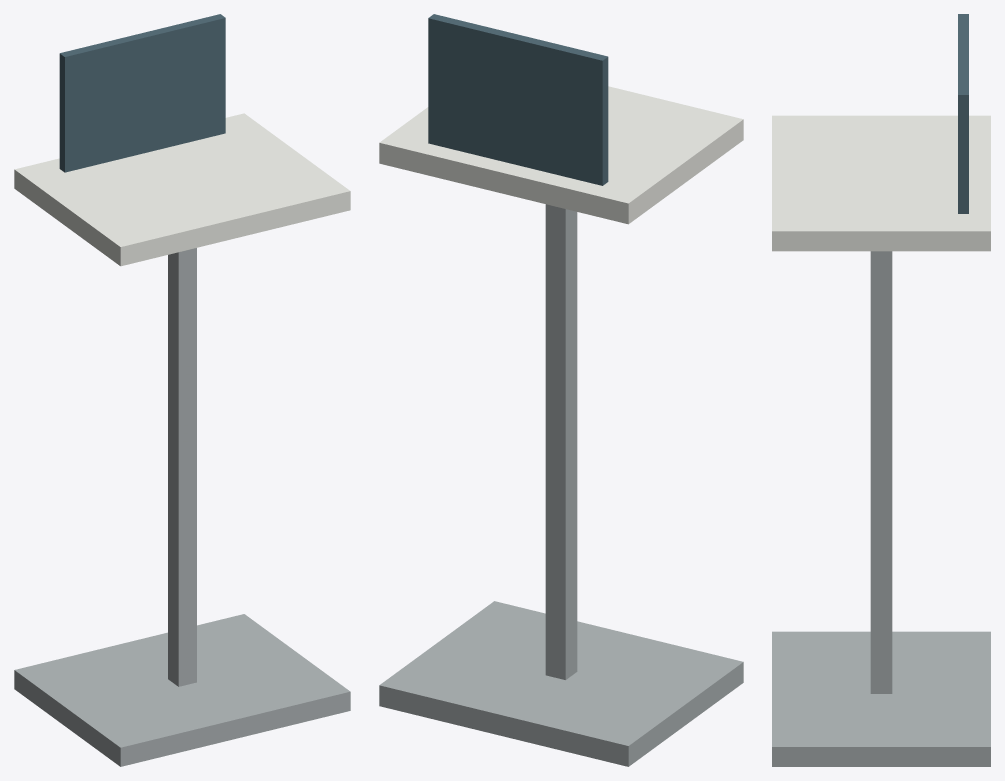
The model's file is grand-prix-circuit-and-open-wheel-laptop-stand-aee635db__15229.glb.
3 renders of one model, left to right at view 1: azimuth 30°, elevation 25°; view 2: azimuth 150°, elevation 25°; view 3: azimuth 270°, elevation 25°, orthographic. The views are drawn at different scales.
Parts seen in each view (by area): view 1: laptop-stand; view 2: laptop-stand; view 3: laptop-stand.
Part boxes in pixels (left/top/right/bottom): laptop-stand: left=14, top=14, right=350, bottom=766; laptop-stand: left=379, top=14, right=743, bottom=766; laptop-stand: left=772, top=14, right=990, bottom=766.
Bounding box in the file's own units: 0.5 × 1.32 × 0.4.
